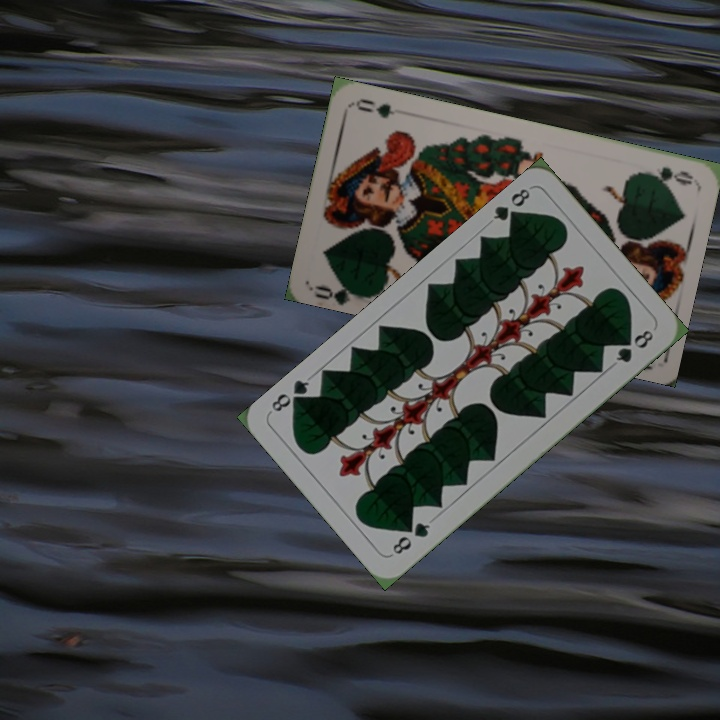G8: (488, 184, 533, 228), (388, 518, 433, 557)
GO: (312, 275, 371, 305), (636, 163, 696, 188)
